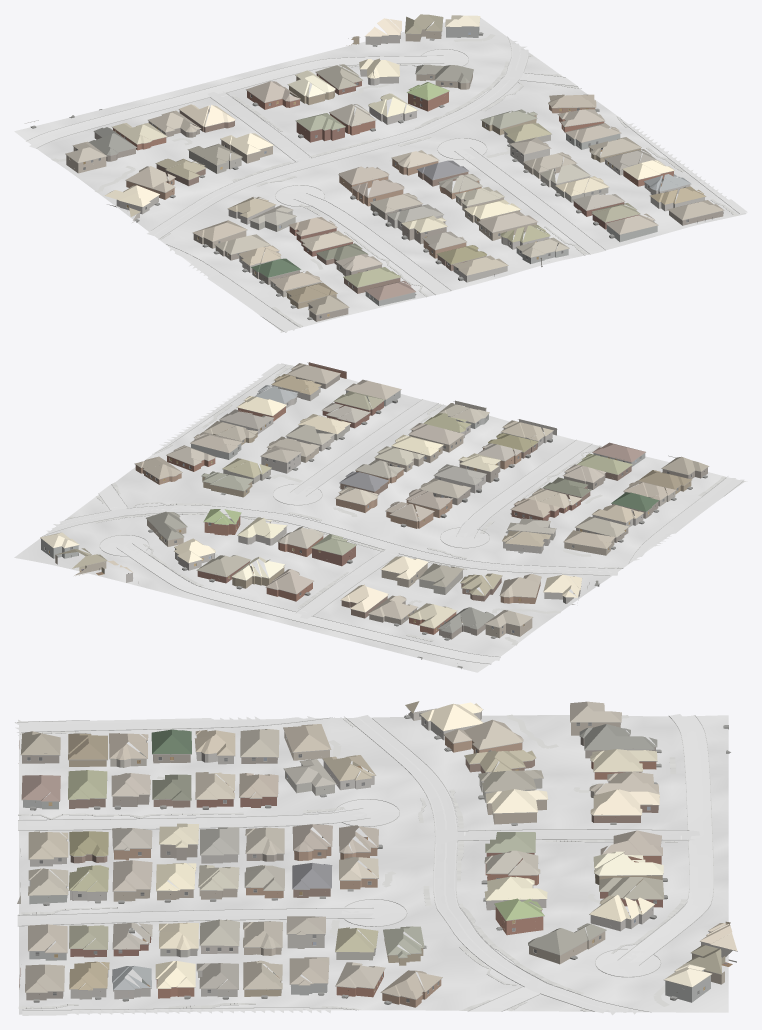
3 renders of one model, top to bottom at view 1: azimuth 30°, elevation 25°; view 2: azimuth 150°, elevation 25°; view 3: azimuth 270°, elevation 25°, orthographic. The views are drawn at different scales.
Parts seen in each view (by area): view 1: ground, roof, concrete, wall, detail, asphalt, wall_stucco, curb, wall_stone, walk; view 2: ground, roof, concrete, wall, detail, asphalt, curb, wall_stucco, walk, wall_stone; view 3: ground, roof, concrete, wall, asphalt, curb, detail, wall_stucco, walk, wall_stone, glass, mark_w (+1 smaller).
Part boxes in pixels (x1,y1,x2,y2): ground: (14, 17, 746, 331); roof: (65, 14, 723, 314); concrete: (26, 49, 747, 332); wall: (94, 29, 723, 321); detail: (24, 26, 724, 319); asphalt: (147, 41, 528, 237); wall_stucco: (66, 26, 657, 306); curb: (26, 36, 739, 332); wall_stone: (107, 33, 704, 282); walk: (51, 34, 738, 332); ground: (14, 363, 743, 672); roof: (40, 363, 708, 632); concrete: (99, 363, 744, 663); wall: (55, 362, 707, 639); detail: (40, 362, 709, 668); asphalt: (46, 505, 618, 575); curb: (42, 365, 743, 664); wall_stucco: (41, 390, 675, 638); walk: (67, 365, 747, 645); wall_stone: (126, 380, 643, 604); ground: (19, 715, 728, 1014); roof: (20, 701, 737, 999); concrete: (14, 714, 713, 1015); wall: (18, 735, 730, 1007); asphalt: (348, 715, 637, 1015); curb: (15, 715, 713, 1012); detail: (19, 708, 737, 1004); wall_stucco: (17, 708, 710, 1002); walk: (18, 714, 686, 1011); wall_stone: (30, 711, 736, 999); glass: (27, 713, 698, 1002); mark_w: (347, 716, 681, 1011).
Bounding box in the file's own units: 257 × 15.22 × 259.
